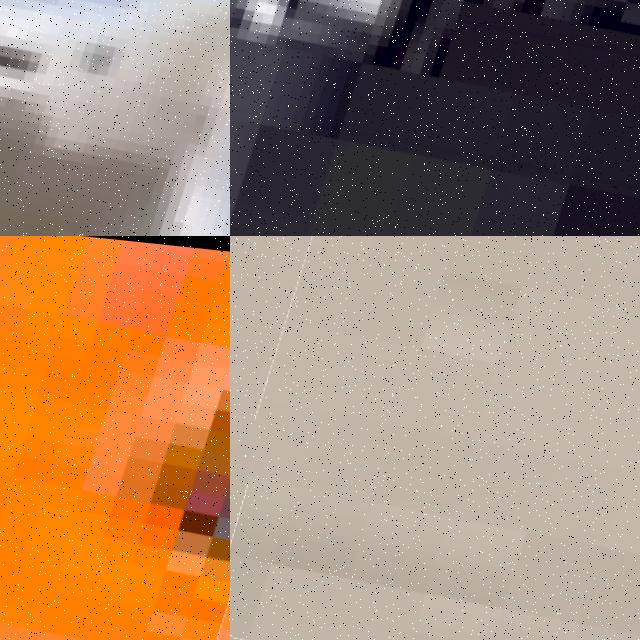0: (230, 236, 640, 640), (230, 0, 640, 236)
drone: (0, 236, 230, 640), (0, 0, 230, 236)
